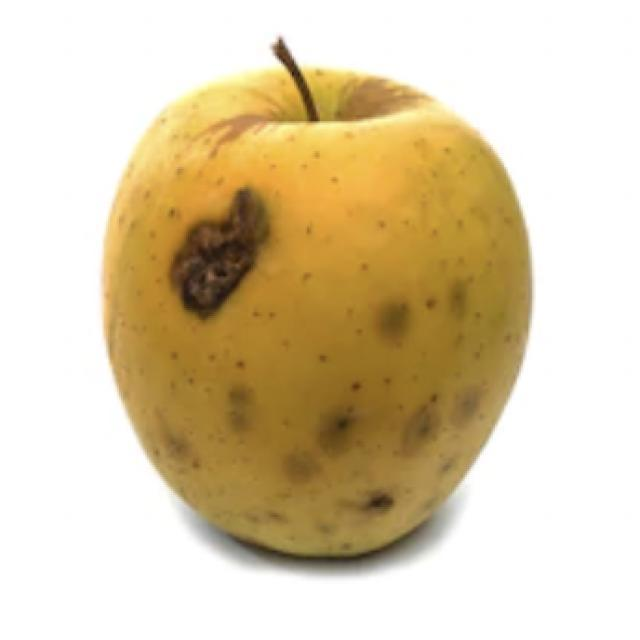Rotten: (112, 73, 543, 562)
